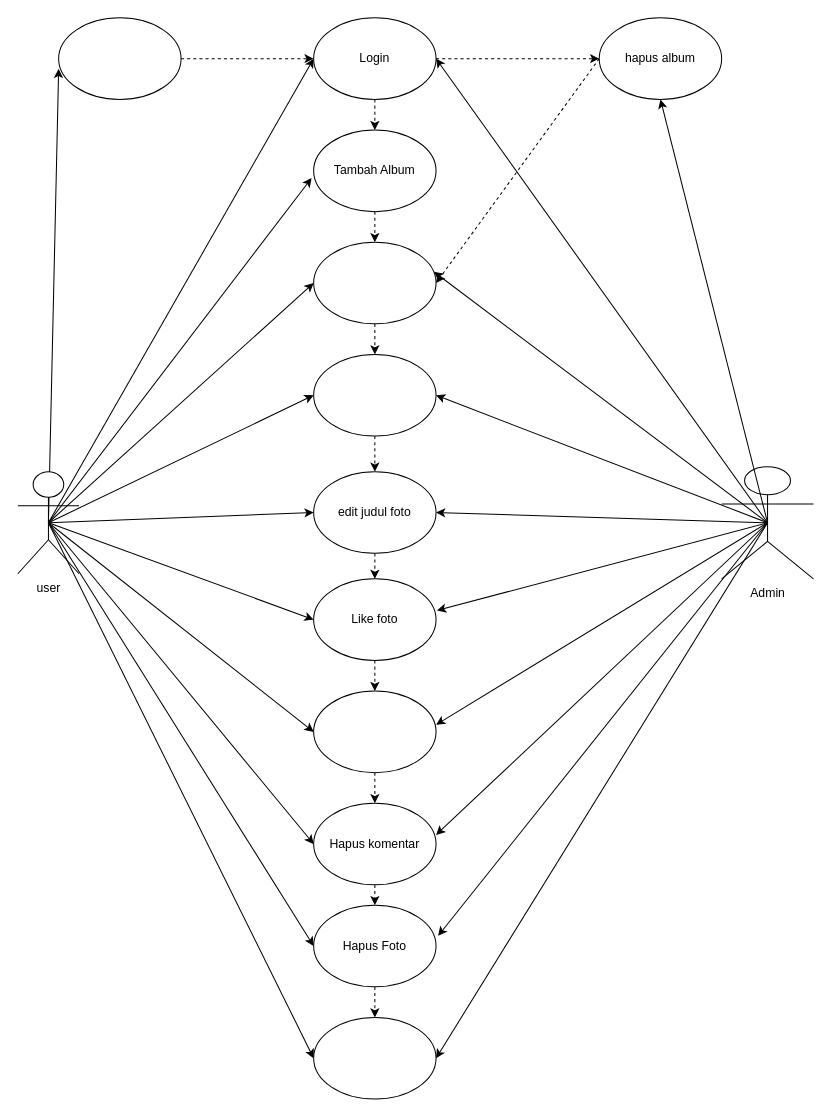
Image size: 831x1117. Some labels were removed from this diagram. The shapes that lost their labels are listed below. From the top down, each one's centre as x and y in pixels, then its label:
(x=119, y=58): Register
(x=374, y=282): Tambah foto
(x=374, y=394): Lihat foto
(x=374, y=731): Komentar foto
(x=374, y=1057): Logout
